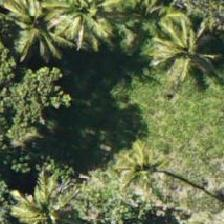coconut_tree: (101, 124, 191, 214), (140, 0, 223, 85), (50, 0, 140, 58), (0, 0, 78, 60), (0, 168, 82, 223), (84, 0, 174, 49)
